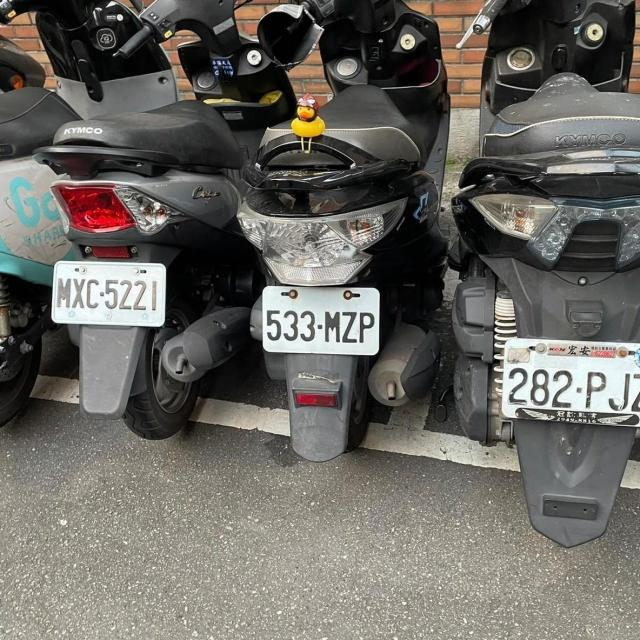W: (496, 336, 640, 431), (258, 283, 380, 358), (48, 255, 168, 330)
